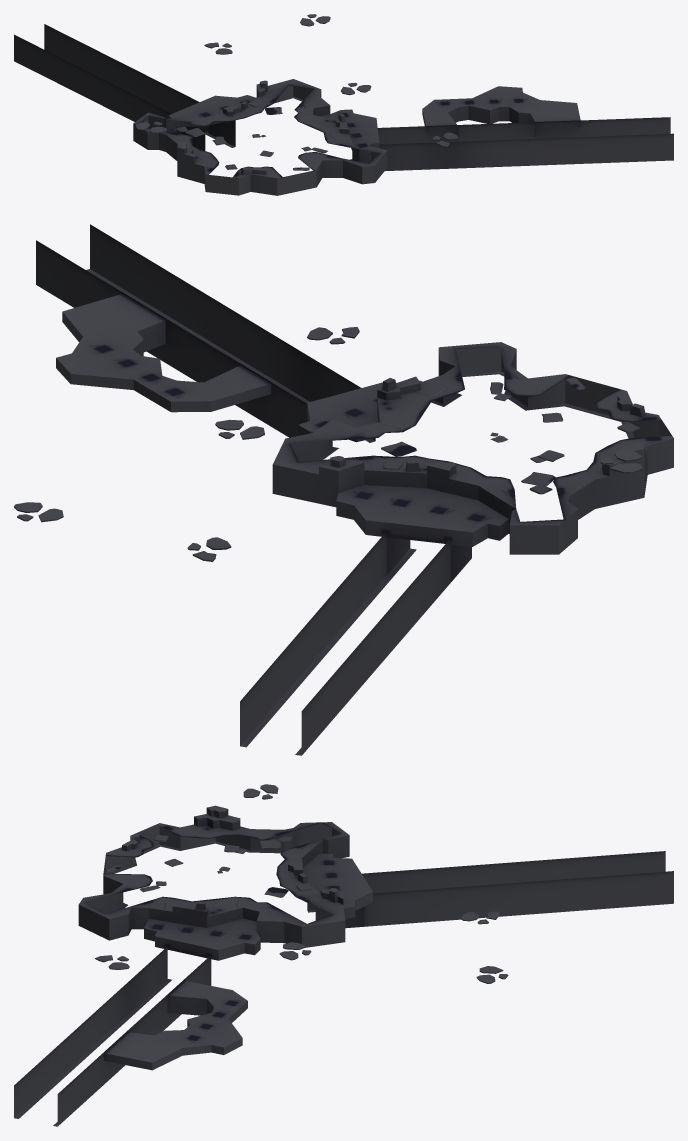
The model's file is Ground_01.FBX.
The picture shows the model from 3 angles, top to bottom: view 1: azimuth 30°, elevation 25°; view 2: azimuth 150°, elevation 25°; view 3: azimuth 270°, elevation 25°; orthographic projection. The views are drawn at different scales.
Parts seen in each view (by area): view 1: Ground_01; view 2: Ground_01; view 3: Ground_01.
Boxes of the visible parts, <box> form: Ground_01: <box>14,14,673,195</box>; Ground_01: <box>14,224,673,755</box>; Ground_01: <box>14,784,673,1126</box>.
Size of the model in its own units: 60.76 by 8.03 by 63.48.
